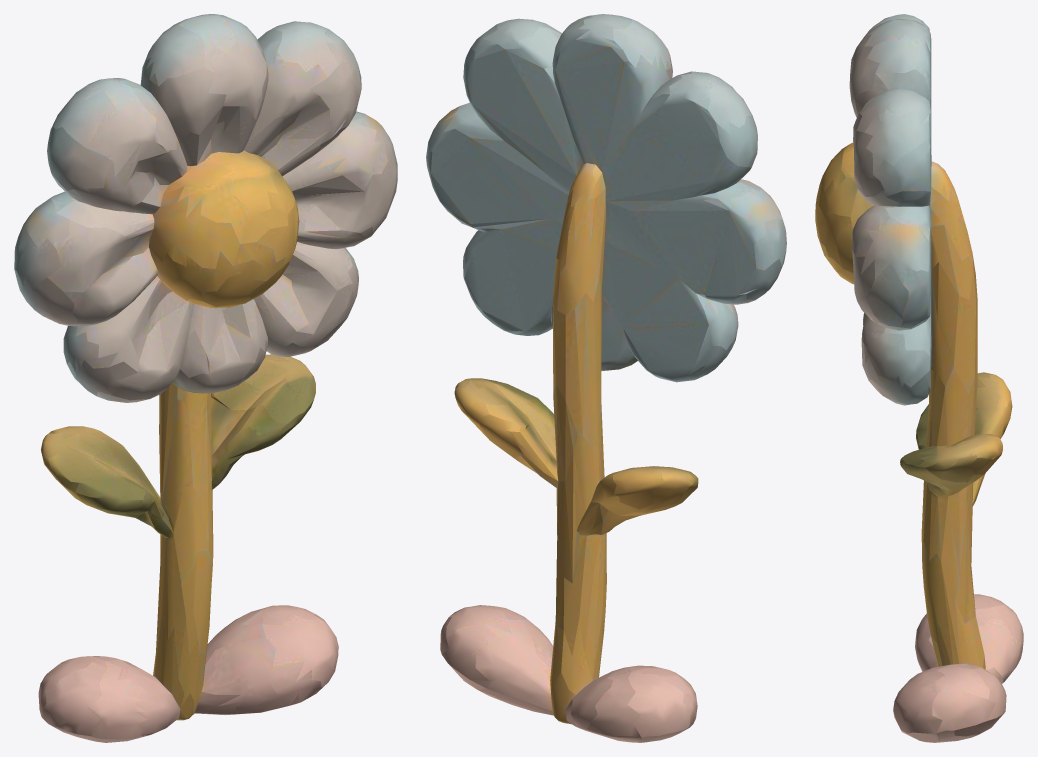
The model's file is flower.1d94ca02.glb.
3 views of the same model, side by side, from view 1: azimuth 30°, elevation 25°; view 2: azimuth 150°, elevation 25°; view 3: azimuth 270°, elevation 25° (orthographic). The views are drawn at different scales.
Visible parts, largest first — view 1: output_unwrapped; view 2: output_unwrapped; view 3: output_unwrapped.
Part boxes in pixels (x1,y1,x2,y2): output_unwrapped: [14, 14, 397, 742]; output_unwrapped: [426, 14, 786, 742]; output_unwrapped: [815, 14, 1023, 742].
Bounding box in the file's own units: 1.03 × 1.9 × 0.5316.
Materials: 1 (1 with a texture image).
